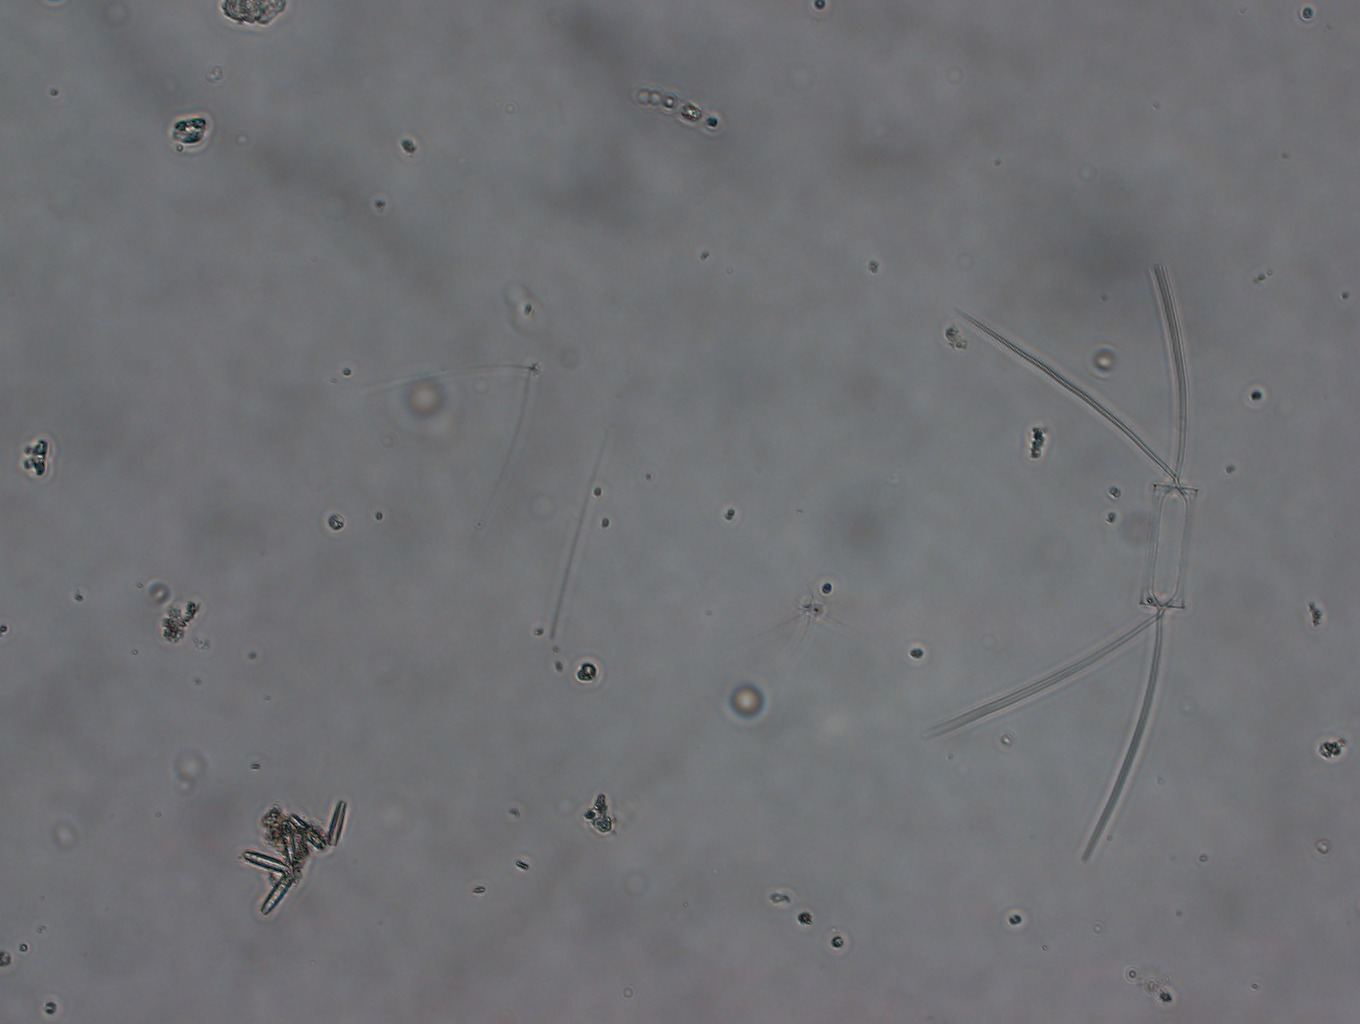chaetoceros: (920, 233, 1203, 873)
thalassionema nitzschioides: (234, 793, 352, 919)
